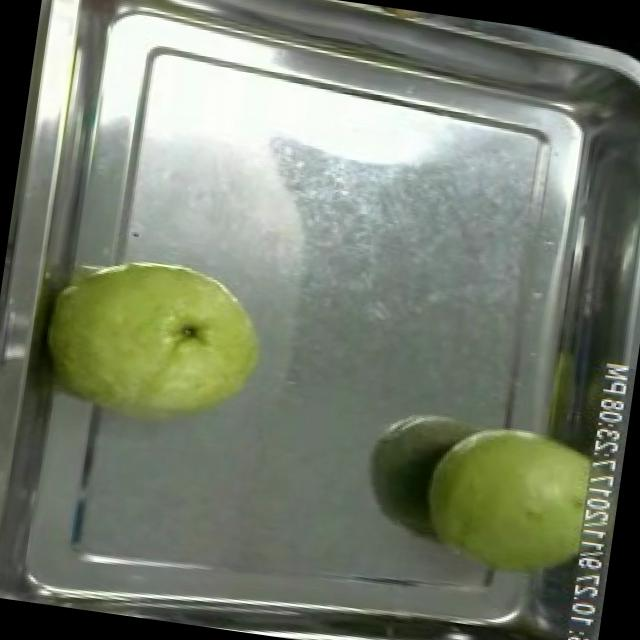Fruit: (29, 236, 282, 448), (405, 406, 620, 597)
